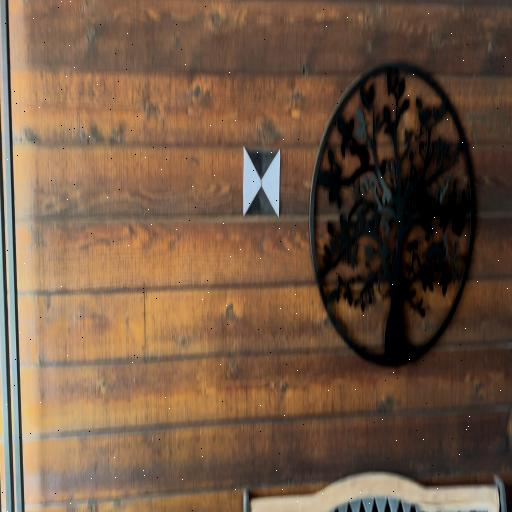target: (243, 147, 279, 218)
